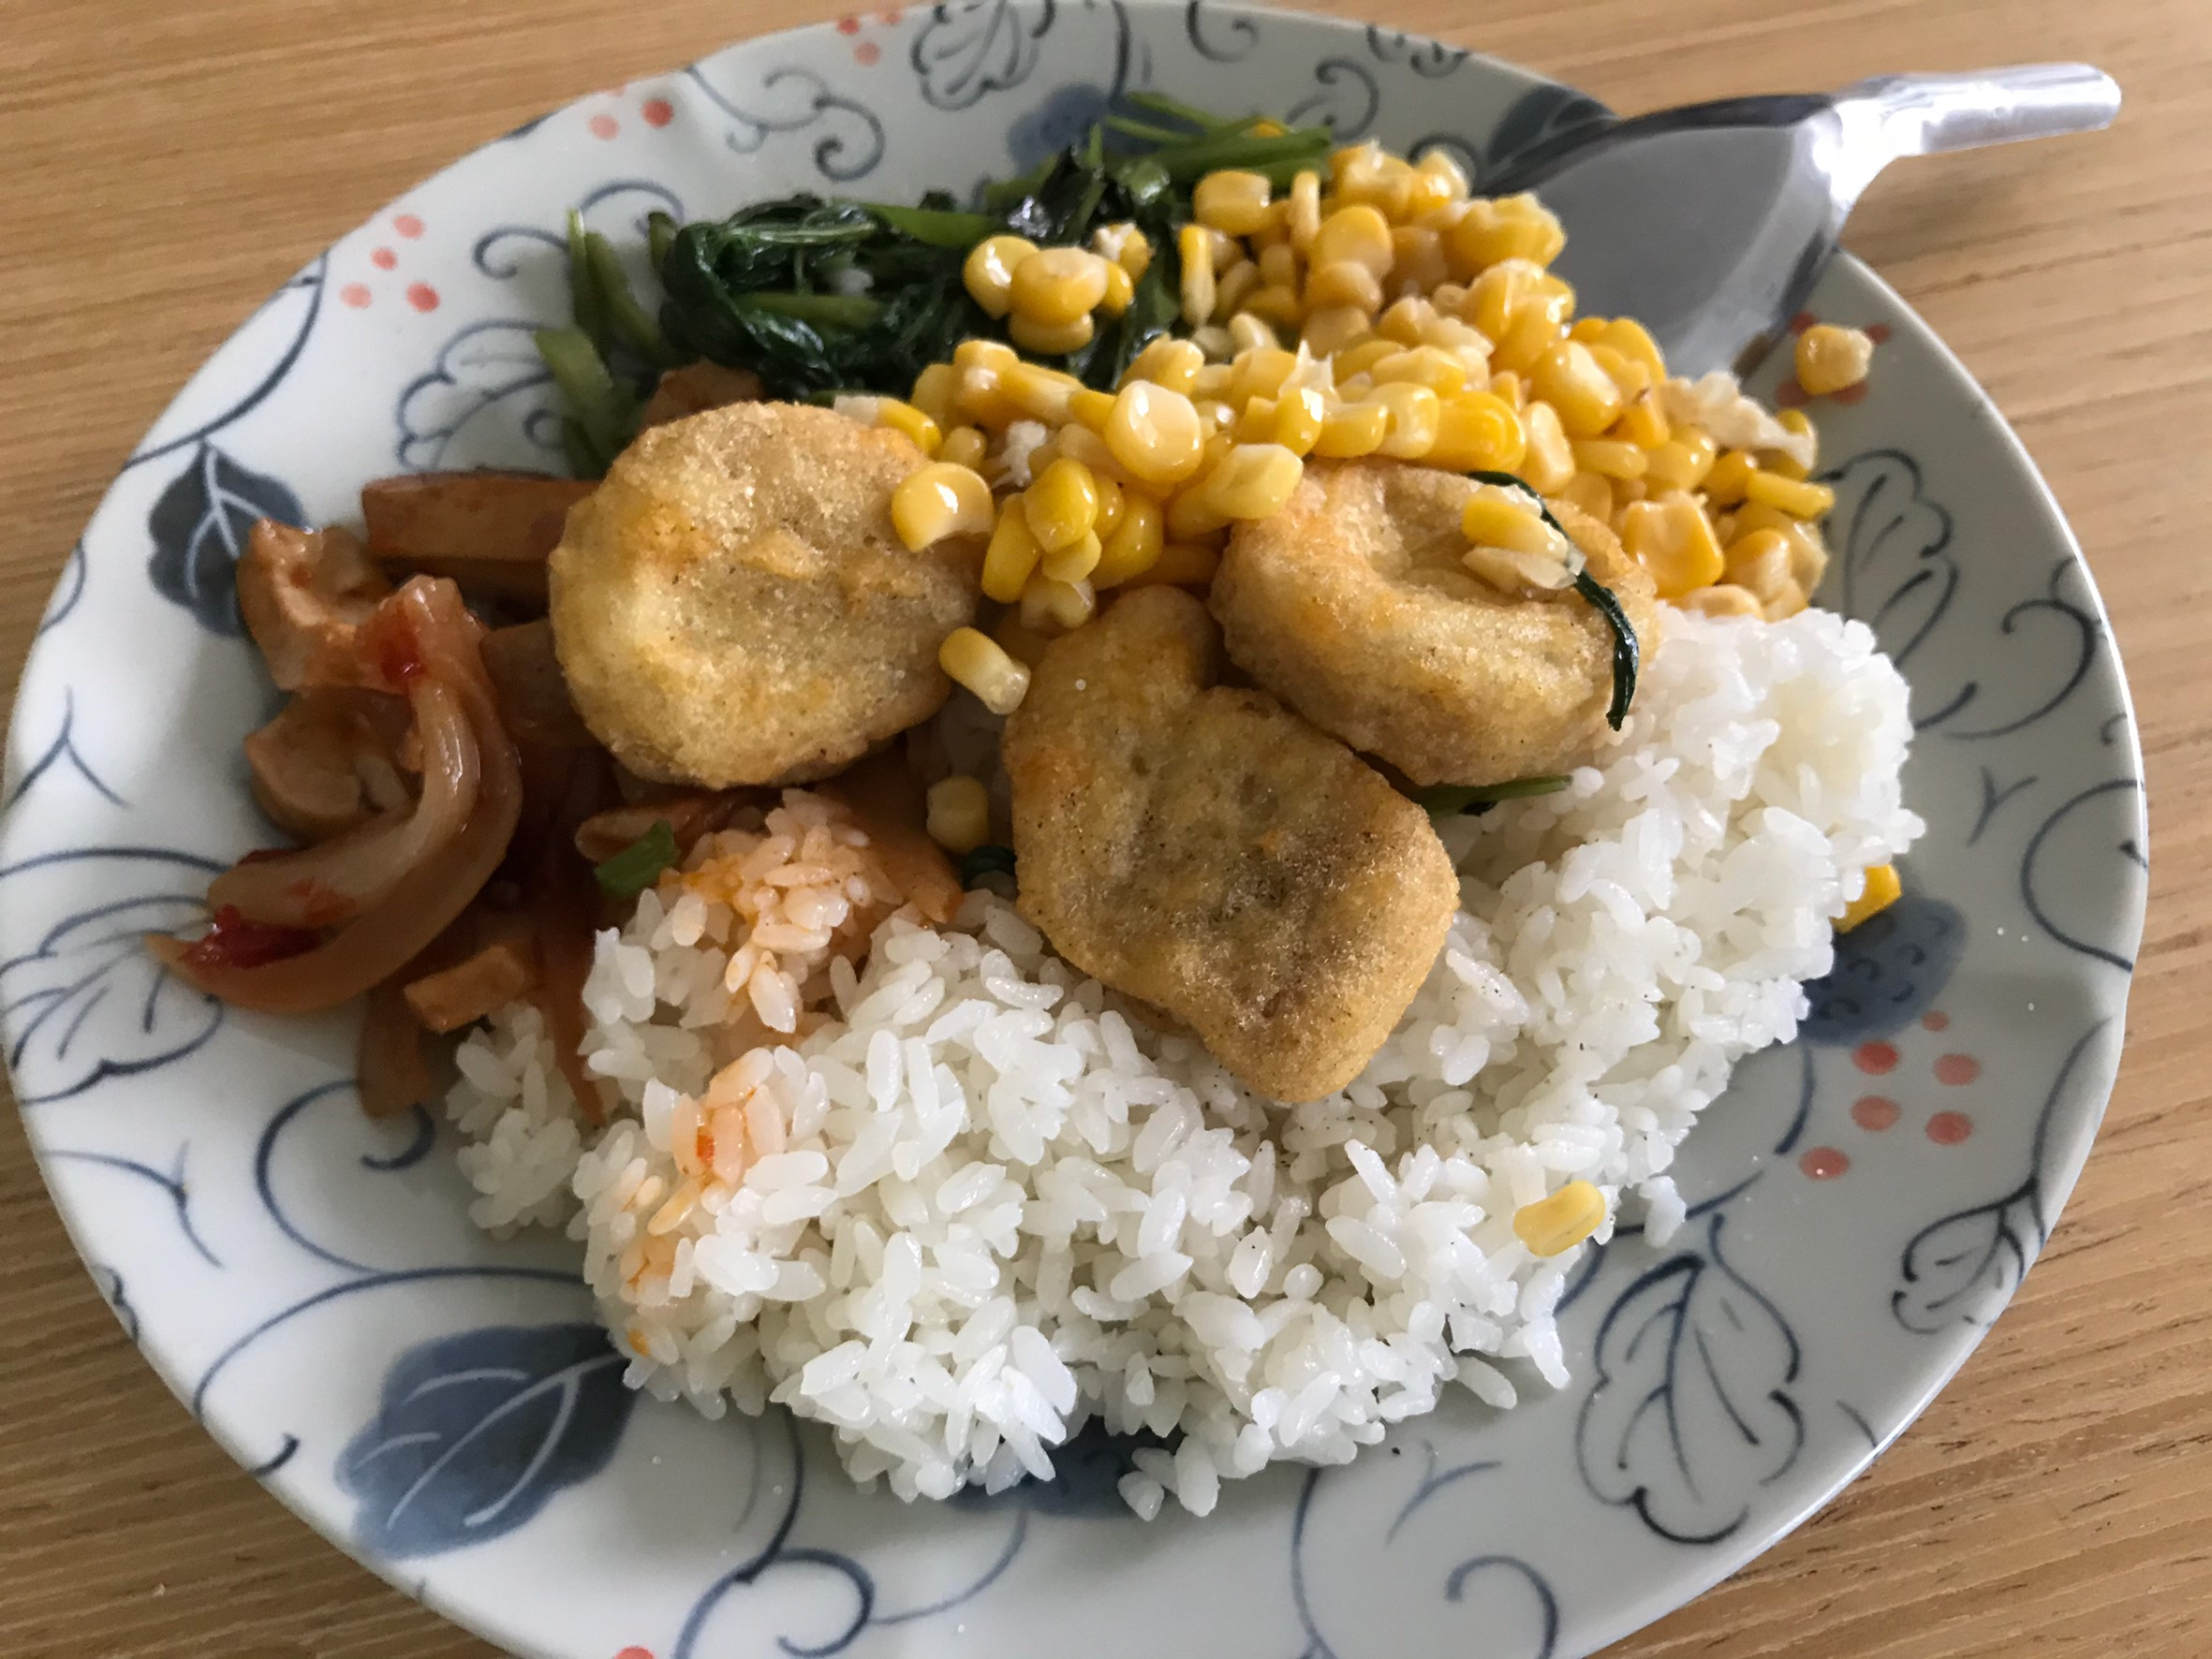chicken_nuggets: (999, 457, 1630, 1079), (542, 401, 978, 784)
rice: (476, 1002, 1895, 1504)
water_spinach: (521, 94, 1335, 450)
